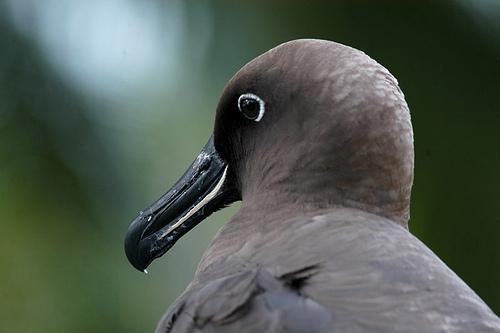003.Sooty_Albatross: (123, 39, 496, 333)
